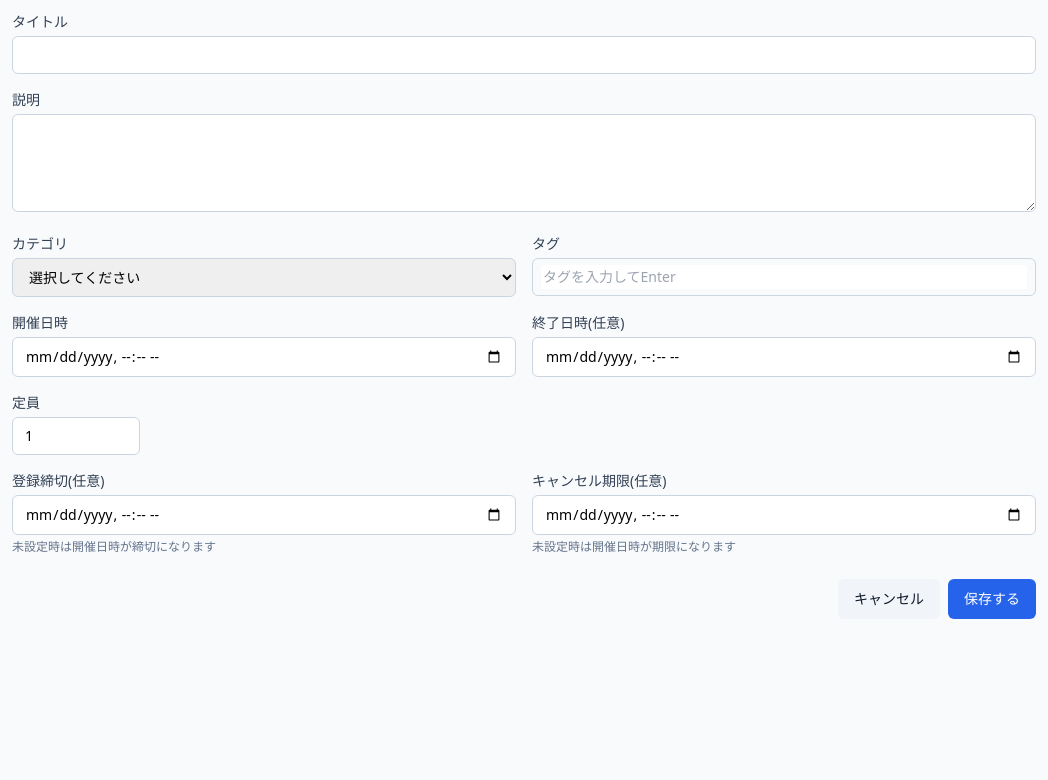
Test: EventForm › 必須項目（タイトル・開催日時・定員・カテゴリ）が未入力の場合、バリデーションエラーを表示し送信しない
Click the button "保存する". click: [992, 599]
box: [948, 579, 1036, 619]
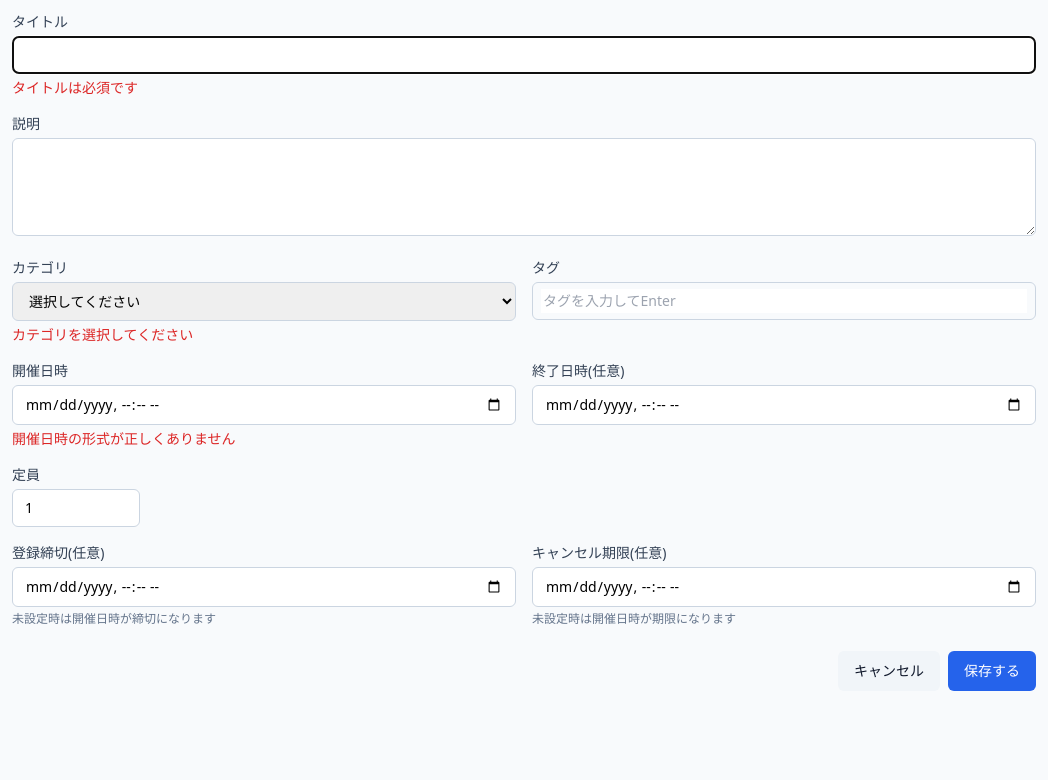
Expected: the text "タイトルは必須です" is shown, [12, 78, 138, 97]
Expected: the text "カテゴリを選択してください" is shown, [12, 325, 193, 344]
Expected: the text "開催日時の形式が正しくありません" is shown, [12, 429, 236, 448]
